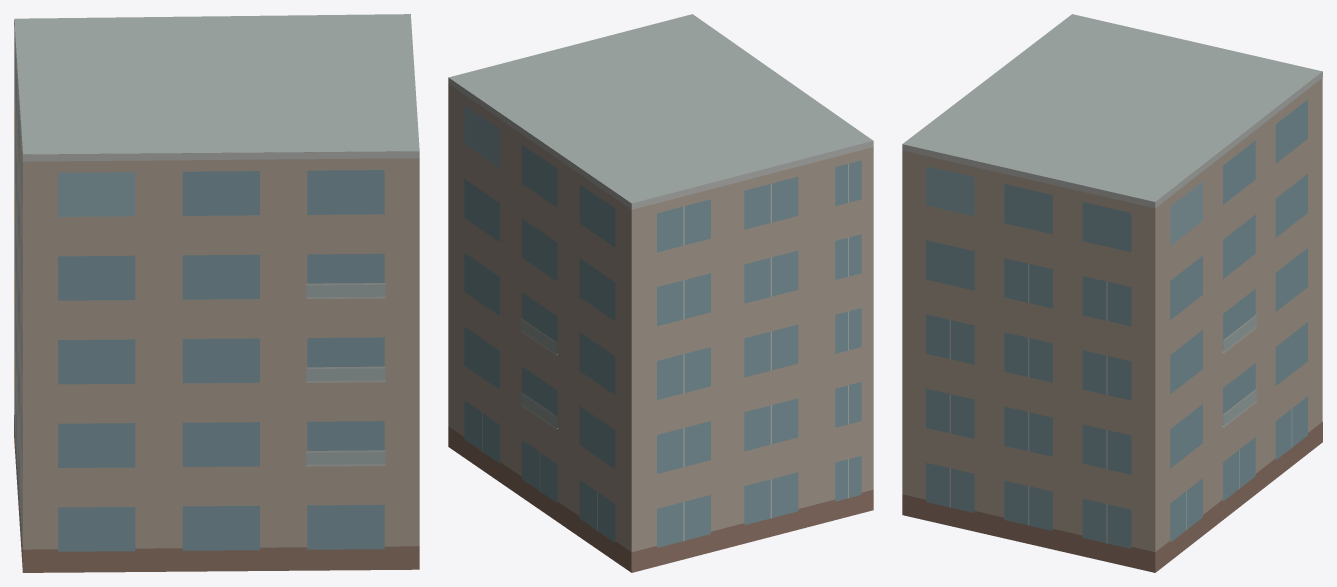
Rendered from survey-upis-32979452.glb.
The picture shows the model from 3 angles, left to right: view 1: azimuth 30°, elevation 25°; view 2: azimuth 150°, elevation 25°; view 3: azimuth 270°, elevation 25°; orthographic projection. The views are drawn at different scales.
Visible parts, largest first — view 1: survey-upis-32979452.tmp; view 2: survey-upis-32979452.tmp; view 3: survey-upis-32979452.tmp.
Boxes of the visible parts, left/top/right/bottom form: survey-upis-32979452.tmp: left=14, top=14, right=419, bottom=572; survey-upis-32979452.tmp: left=448, top=14, right=873, bottom=572; survey-upis-32979452.tmp: left=902, top=14, right=1322, bottom=572.
Bounding box in the file's own units: 15.56 × 14.3 × 14.7.
